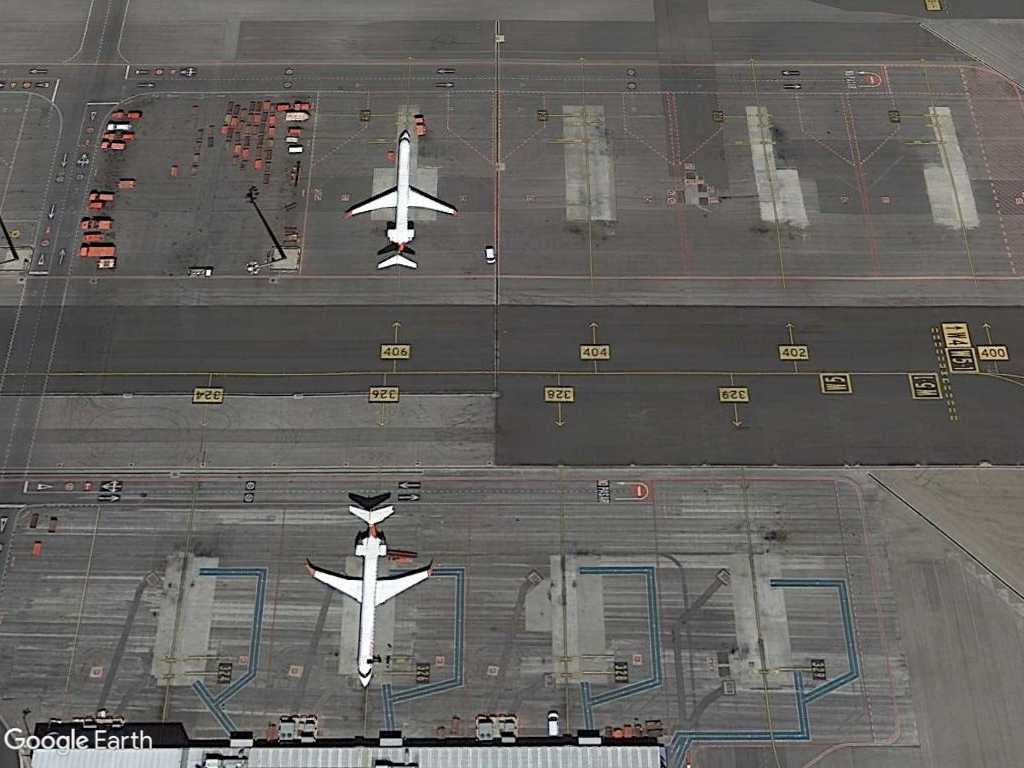airliner: (296, 499, 439, 696)
car: (481, 244, 497, 267)
chartered: (345, 128, 459, 275)
truck: (76, 243, 119, 259)
van: (544, 708, 562, 741)
